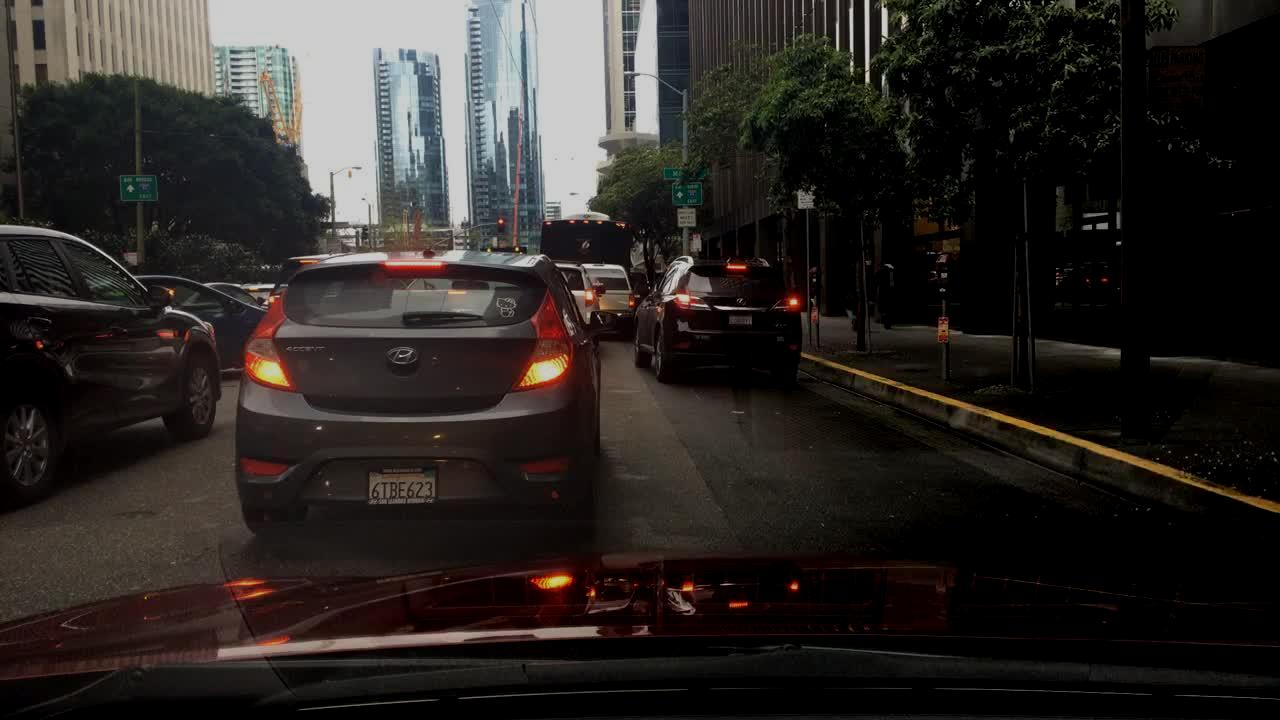Hyundai: (380, 342, 427, 382)
lexus: (734, 296, 748, 307)
